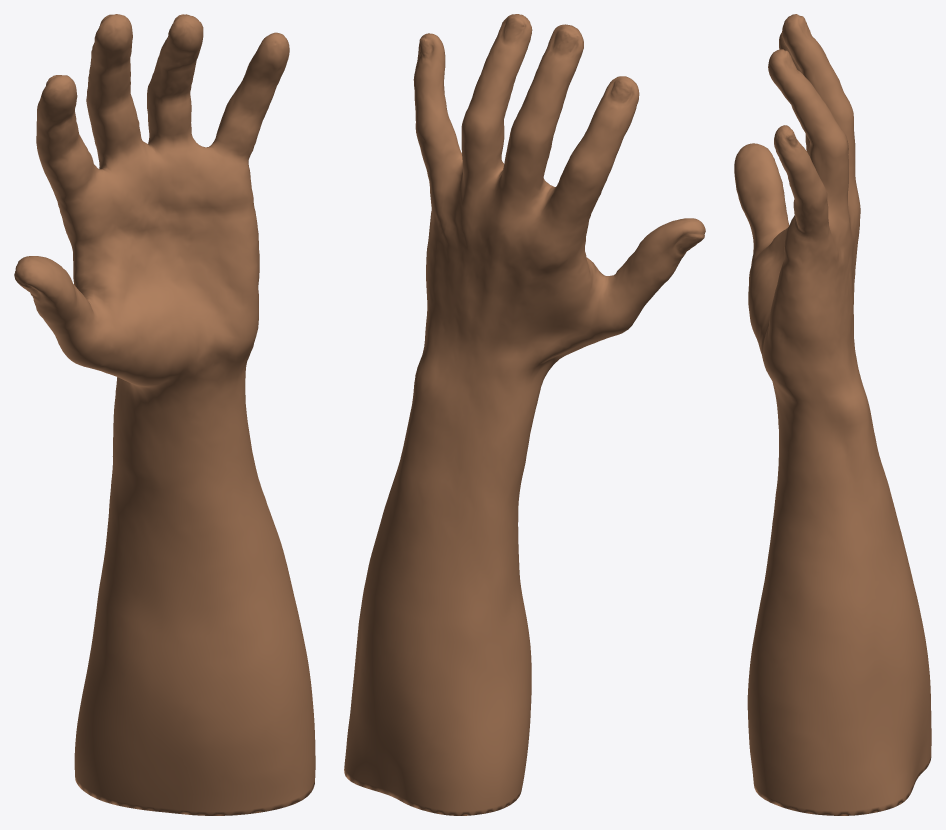
Rendered from arm_with_skin.glb.
3 renders of one model, left to right at view 1: azimuth 30°, elevation 25°; view 2: azimuth 150°, elevation 25°; view 3: azimuth 270°, elevation 25°, orthographic. The views are drawn at different scales.
Parts seen in each view (by area): view 1: hand_mesh; view 2: hand_mesh; view 3: hand_mesh.
Boxes of the visible parts, <box> form: hand_mesh: <box>14,14,315,815</box>; hand_mesh: <box>344,14,705,815</box>; hand_mesh: <box>734,14,931,815</box>.
Size of the model in its own units: 0.6451 by 1.53 by 0.3833.
